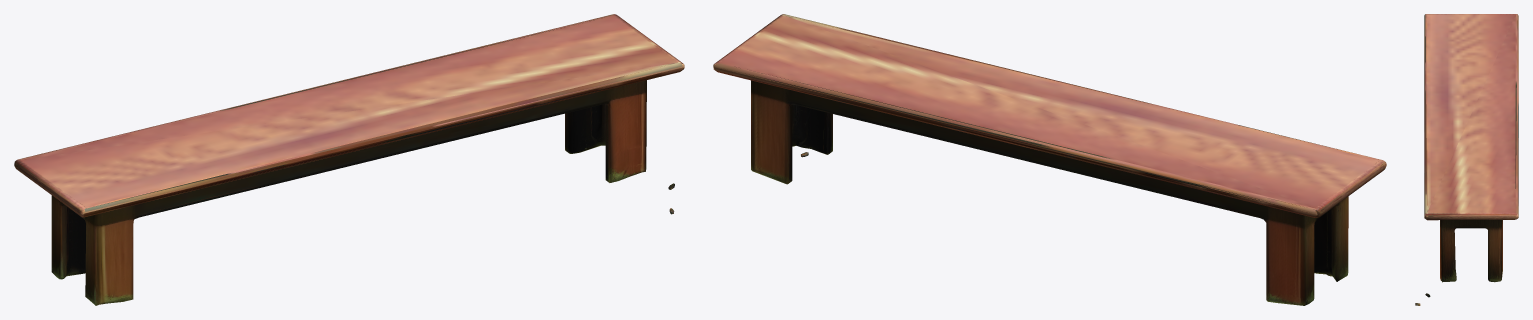
File: RUSTIC_FARM_BENCH_17InchesTall__0222184632_texture.glb
3 views of the same model, side by side, from view 1: azimuth 30°, elevation 25°; view 2: azimuth 150°, elevation 25°; view 3: azimuth 270°, elevation 25° (orthographic). The views are drawn at different scales.
Visible parts, largest first — view 1: Mesh_0; view 2: Mesh_0; view 3: Mesh_0.
Boxes of the visible parts, bbox=[...] form: Mesh_0: bbox=[14, 14, 684, 305]; Mesh_0: bbox=[713, 14, 1386, 305]; Mesh_0: bbox=[1415, 14, 1518, 305].
Size of the model in its own units: 1.93 by 0.4318 by 0.416.
1 material, 1 textured.
